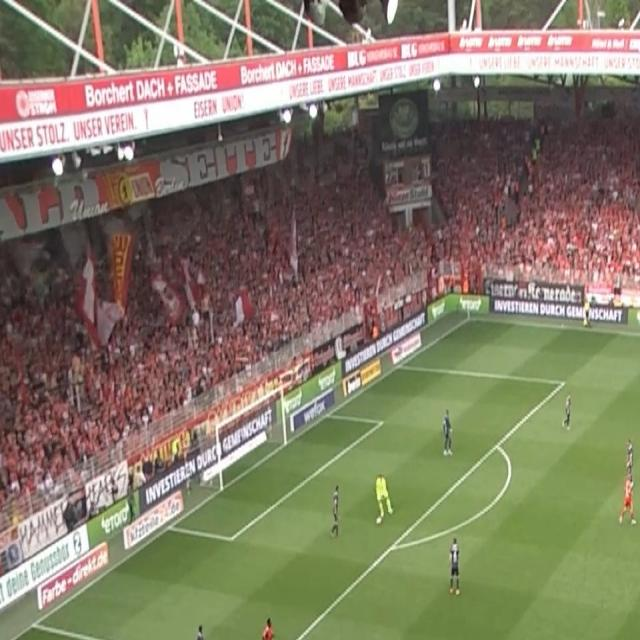ball: (376, 515, 382, 526)
